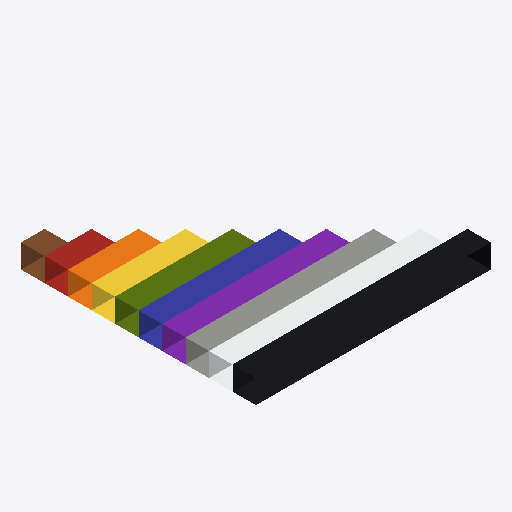
Isometric view (azimuth 45°, elevation 35.3°) of a Minecraft model made of 10 cuboids, textured from the same repository.
Visible parts, largest first — element 1, element 2, element 3, element 4, element 5, element 6, element 7, element 8, element 9, element 10.
Part boxes in pixels (bbox=[...]): element 1: bbox=[233, 229, 490, 404]; element 2: bbox=[209, 229, 443, 391]; element 3: bbox=[186, 229, 396, 377]; element 4: bbox=[162, 229, 349, 363]; element 5: bbox=[139, 229, 302, 350]; element 6: bbox=[115, 229, 255, 336]; element 7: bbox=[92, 229, 208, 323]; element 8: bbox=[68, 229, 161, 309]; element 9: bbox=[45, 229, 114, 295]; element 10: bbox=[21, 229, 67, 282].
Bounding box in the file's own units: 10 × 1 × 10.